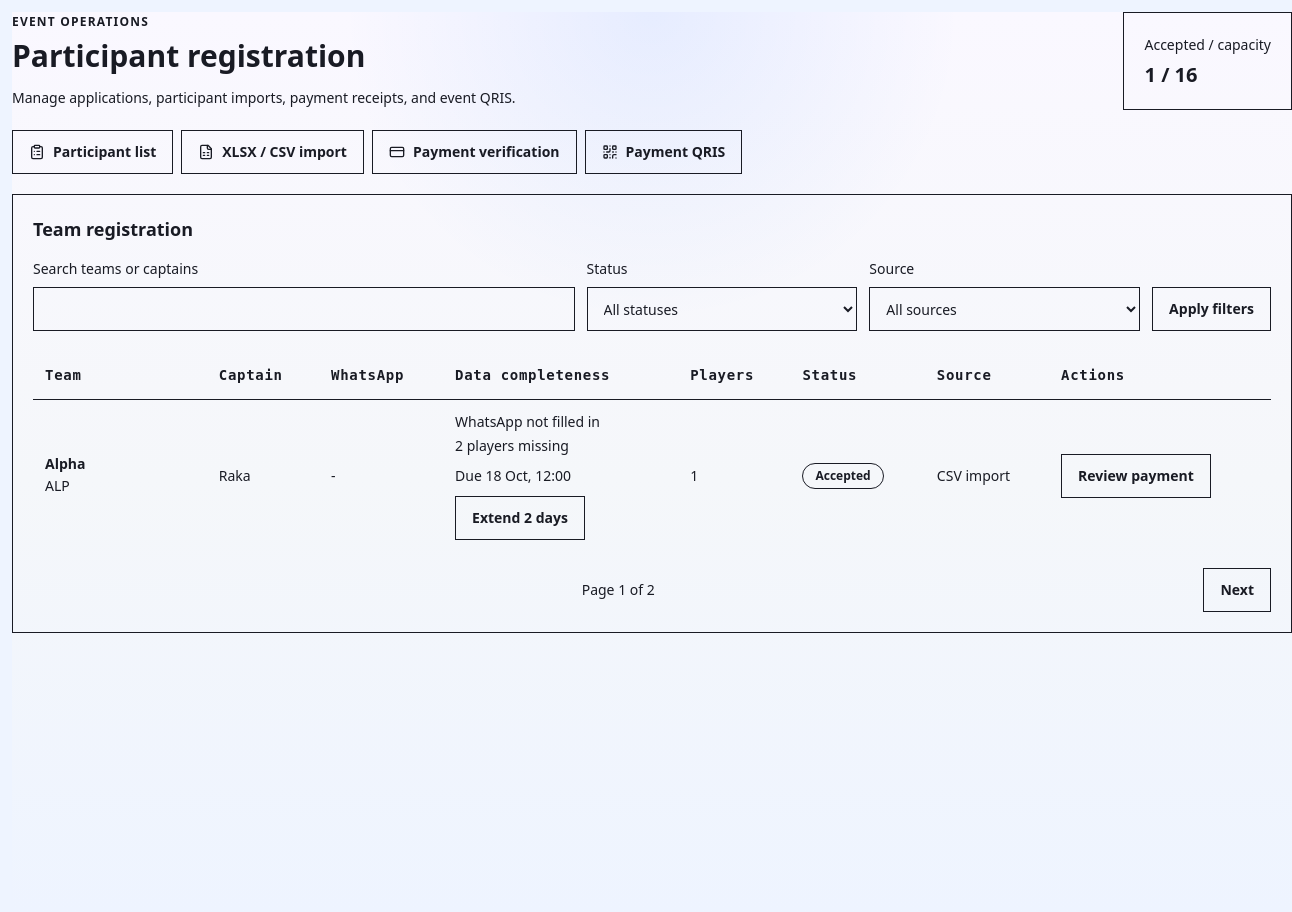
registration workspace behavior › team completion › shows the refusal message and does not refresh
Click the button "Extend 2 days".
click(520, 518)  # box 455,496 -> 585,540
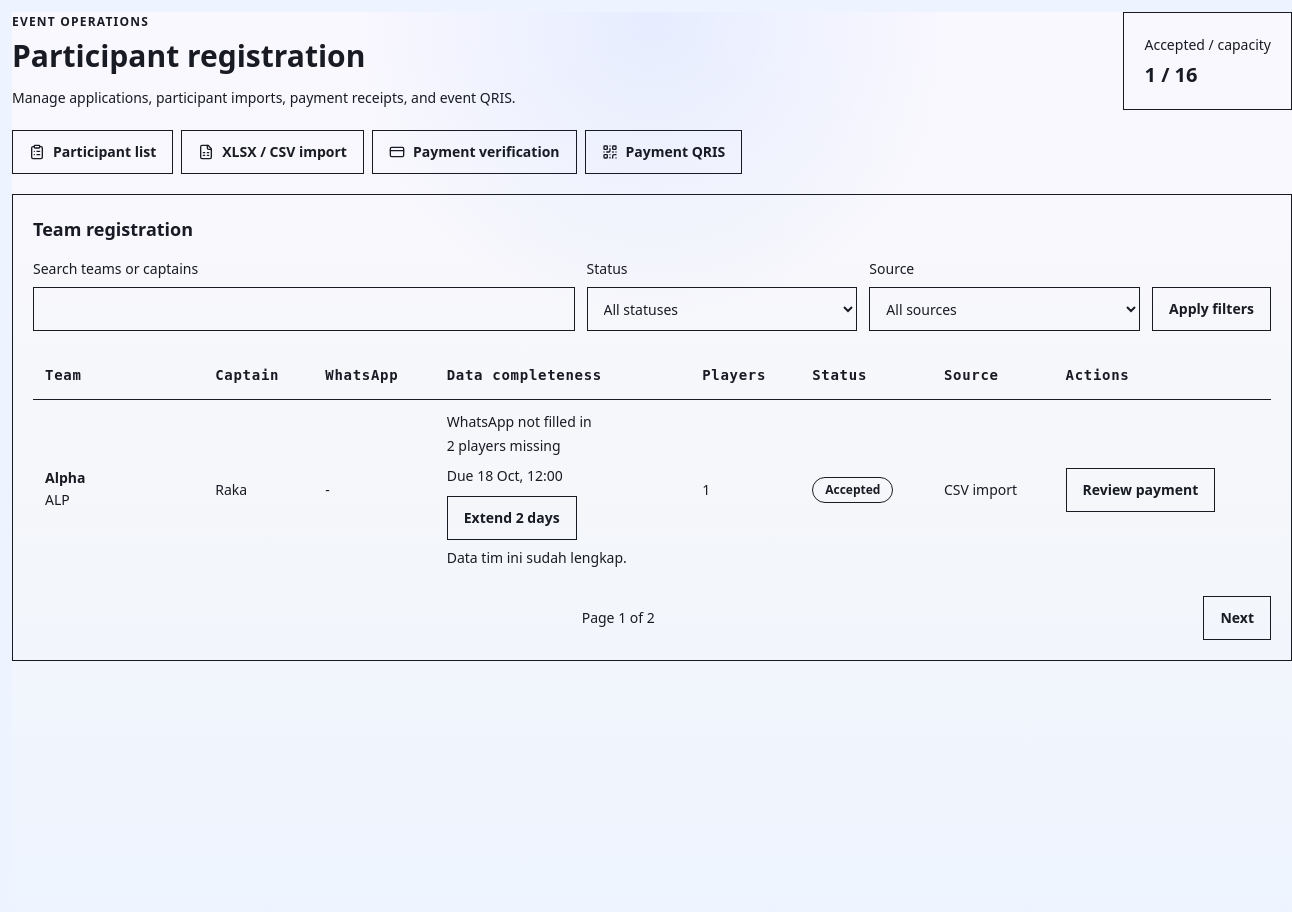
Expected: the message "Data tim ini sudah lengkap." is shown, 447,548 -> 627,567
